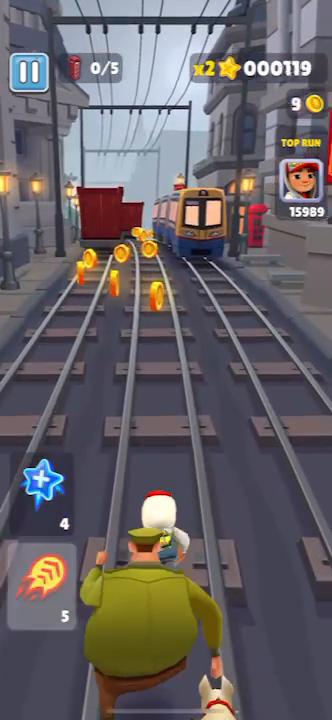train: (151, 187, 228, 260)
